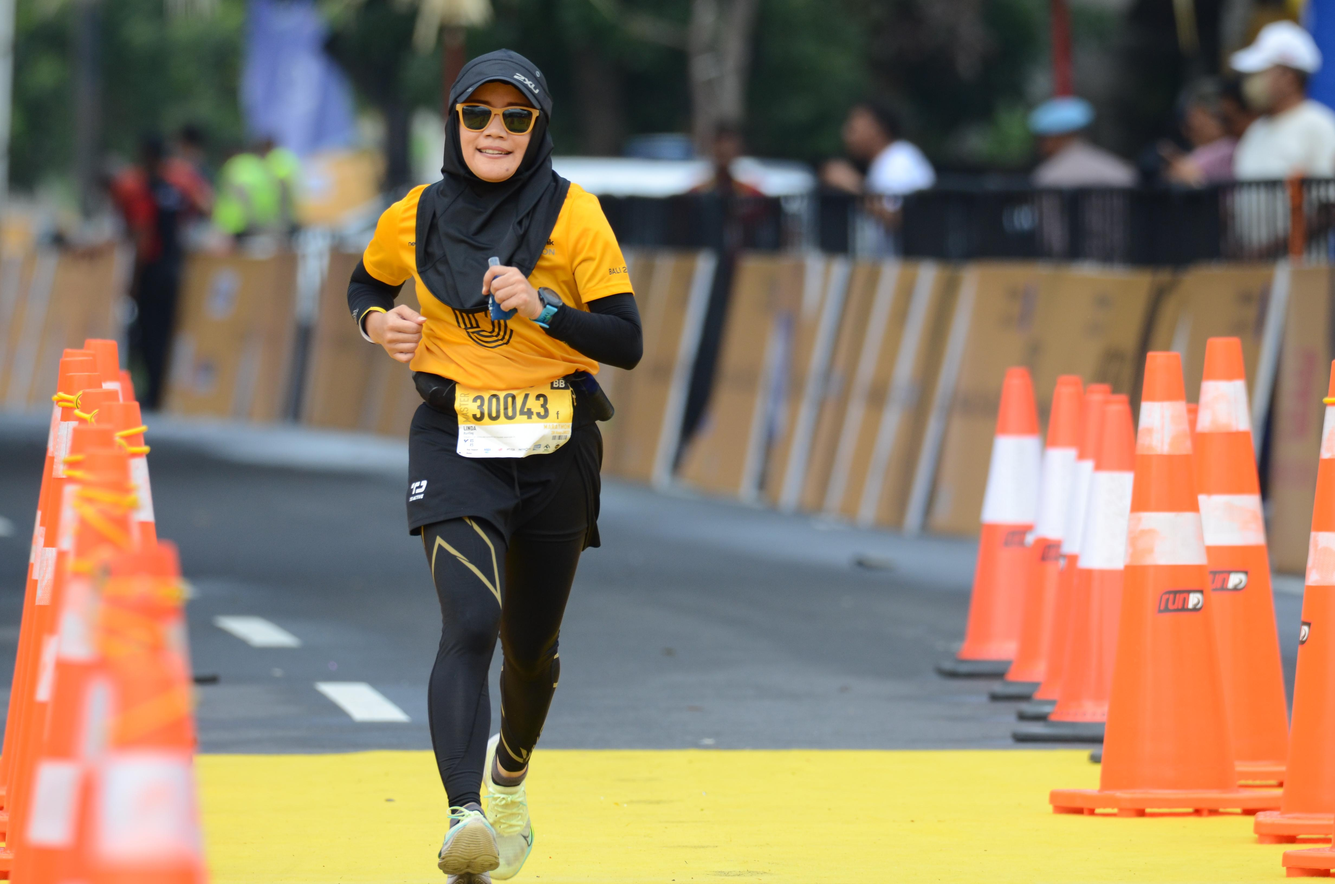bib: (453, 382, 573, 459)
